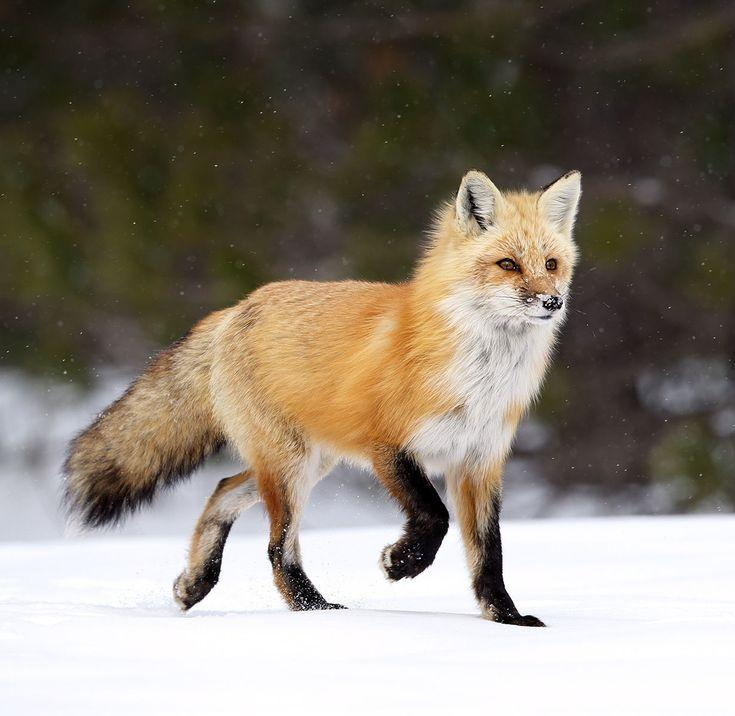fox: (72, 174, 587, 626)
